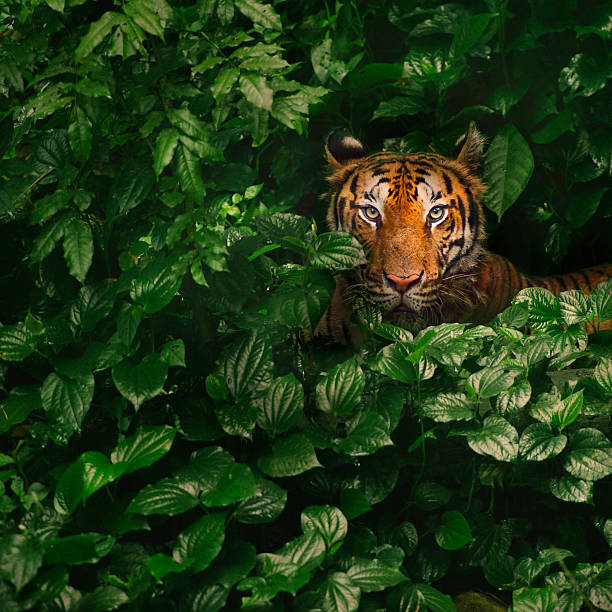tiger: (316, 133, 511, 327)
